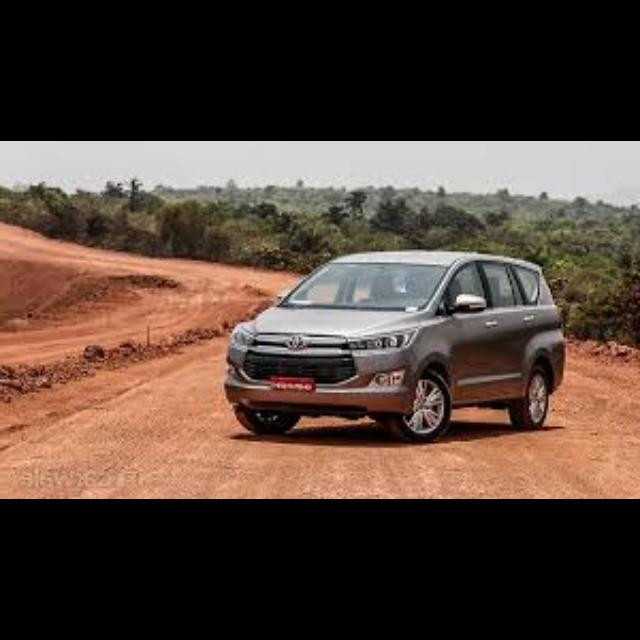vehicles: (227, 259, 567, 446)
